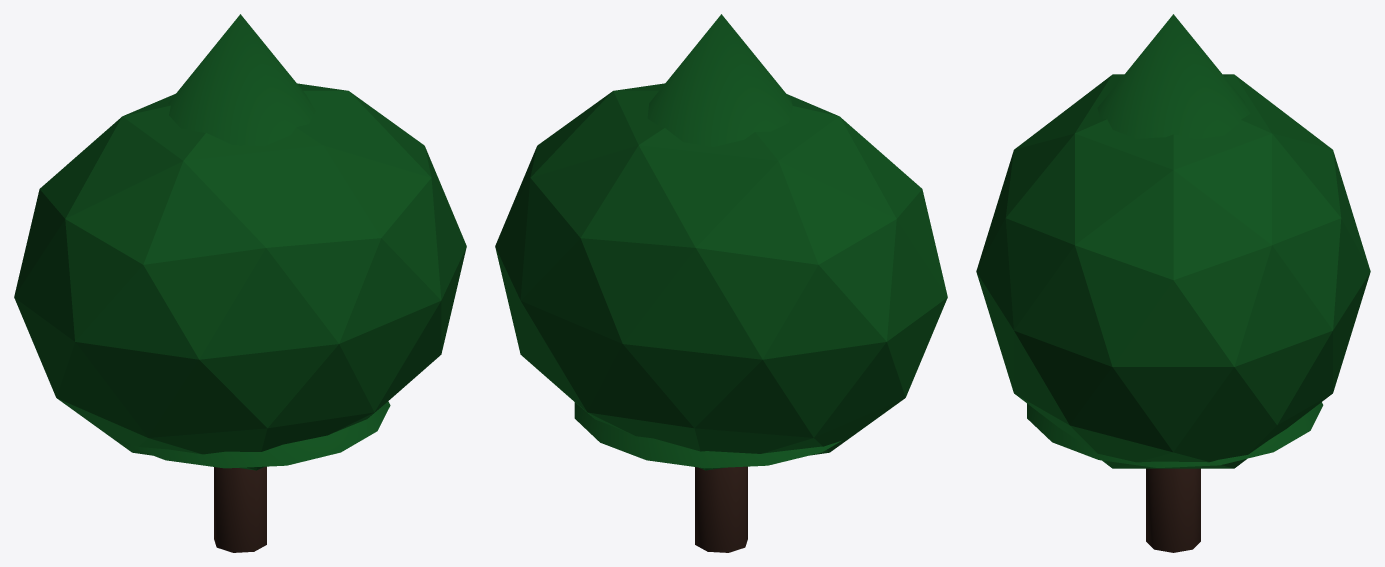
File: TESTTREE.fbx
The picture shows the model from 3 angles, left to right: view 1: azimuth 30°, elevation 25°; view 2: azimuth 150°, elevation 25°; view 3: azimuth 270°, elevation 25°; orthographic projection.
Parts seen in each view (by area): view 1: TREER1, TREEPART3, TREEBASE, TREEPART1; view 2: TREER1, TREEPART3, TREEBASE, TREEPART1; view 3: TREER1, TREEPART3, TREEBASE, TREEPART1.
Boxes of the visible parts, x1=… form: TREER1: x1=14, y1=83, x2=466, y2=470; TREEPART3: x1=168, y1=14, x2=315, y2=146; TREEBASE: x1=214, y1=466, x2=266, y2=552; TREEPART1: x1=115, y1=401, x2=390, y2=468; TREER1: x1=495, y1=83, x2=947, y2=470; TREEPART3: x1=647, y1=14, x2=792, y2=146; TREEBASE: x1=695, y1=466, x2=747, y2=552; TREEPART1: x1=574, y1=402, x2=841, y2=468; TREER1: x1=976, y1=74, x2=1370, y2=468; TREEPART3: x1=1097, y1=14, x2=1250, y2=139; TREEBASE: x1=1146, y1=468, x2=1200, y2=552; TREEPART1: x1=1027, y1=402, x2=1323, y2=467.
Bounding box in the file's own units: 221 × 285 × 193.
